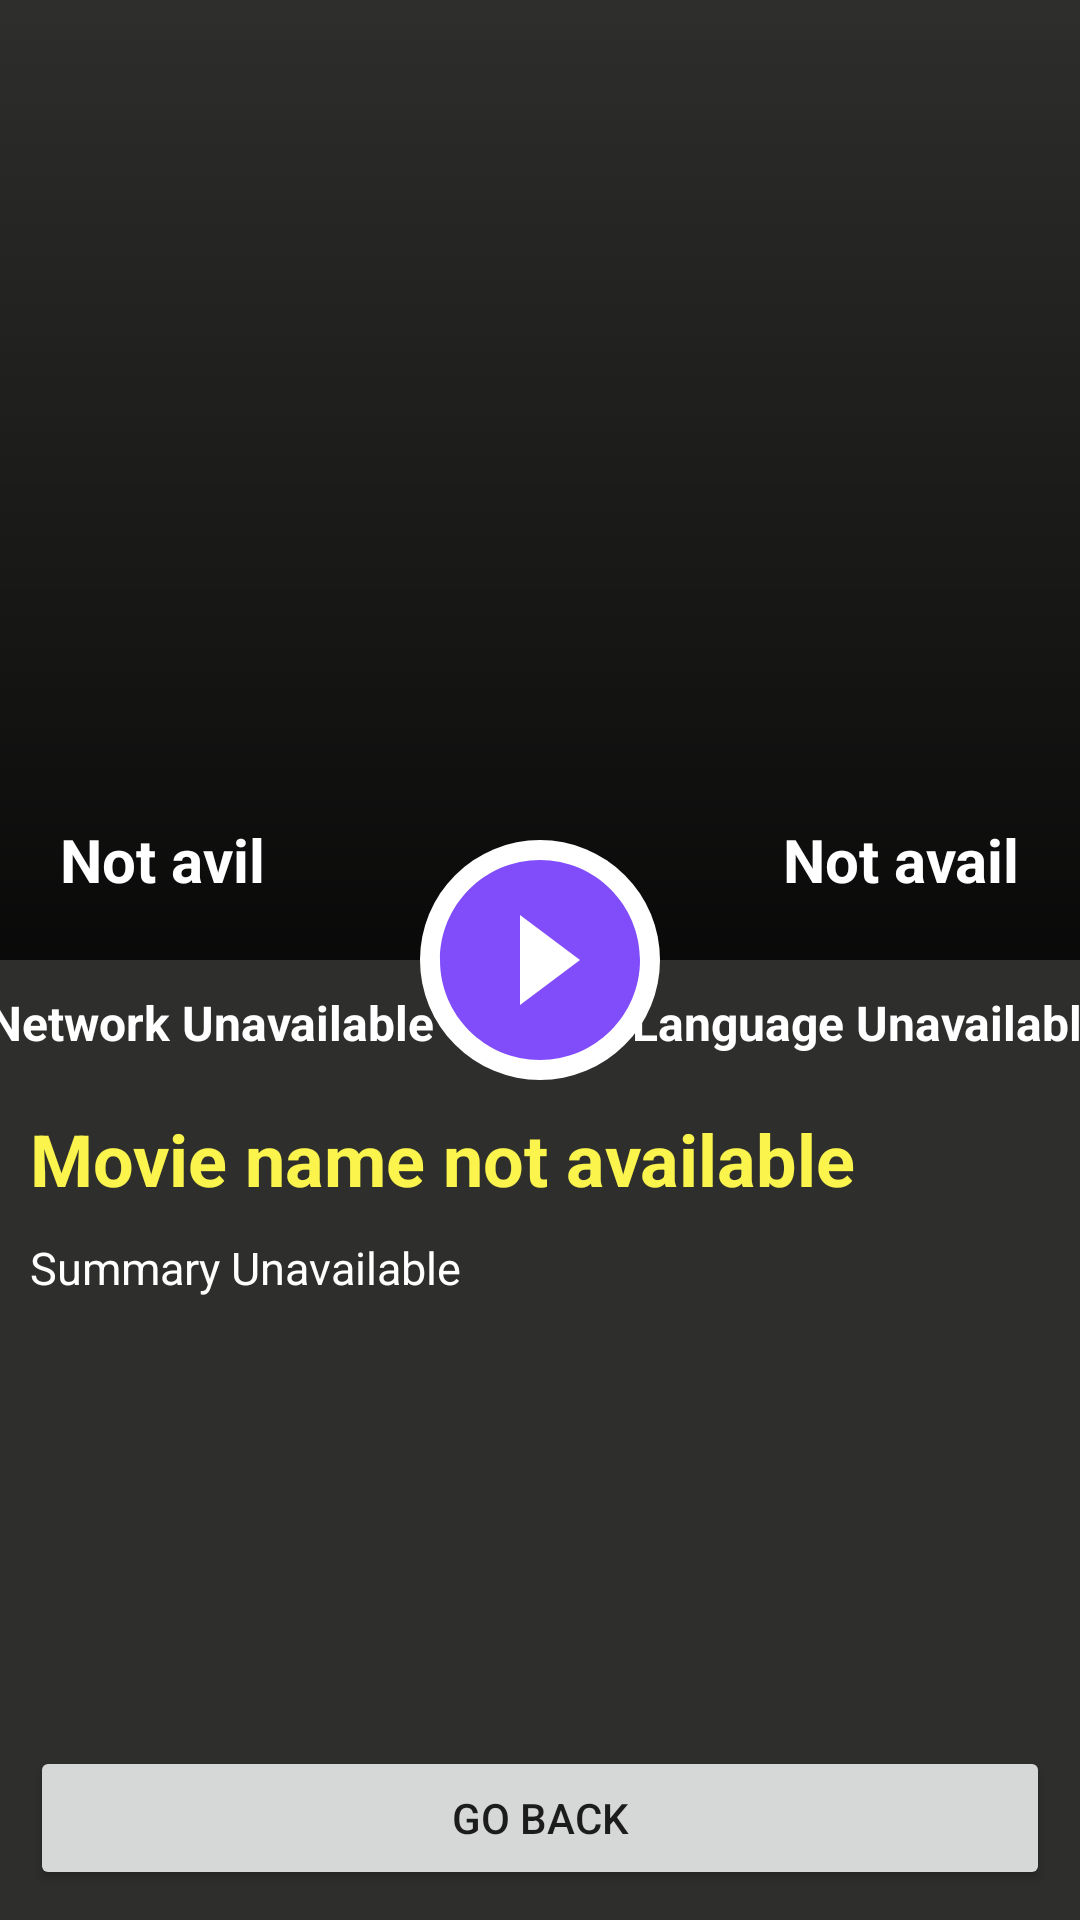

Point at icon controls on the screen. Image size 1080px x 1920px, points as (x=x, y=y).
play circle: (x=540, y=960)
